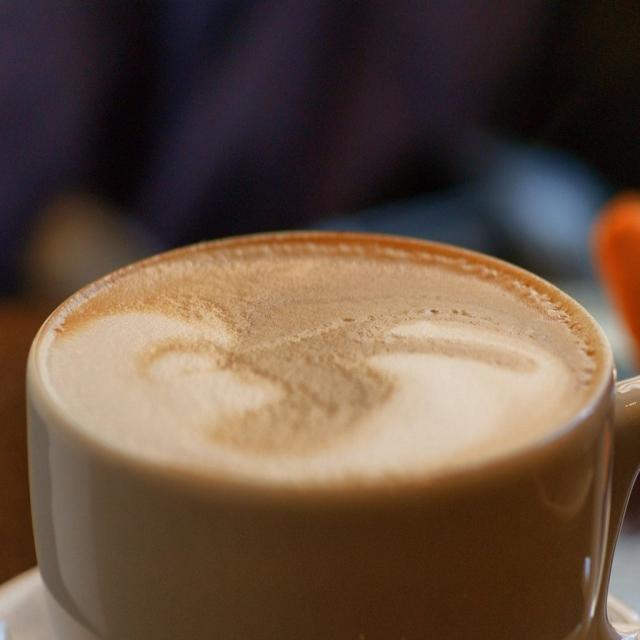Coffee: (39, 239, 612, 479)
